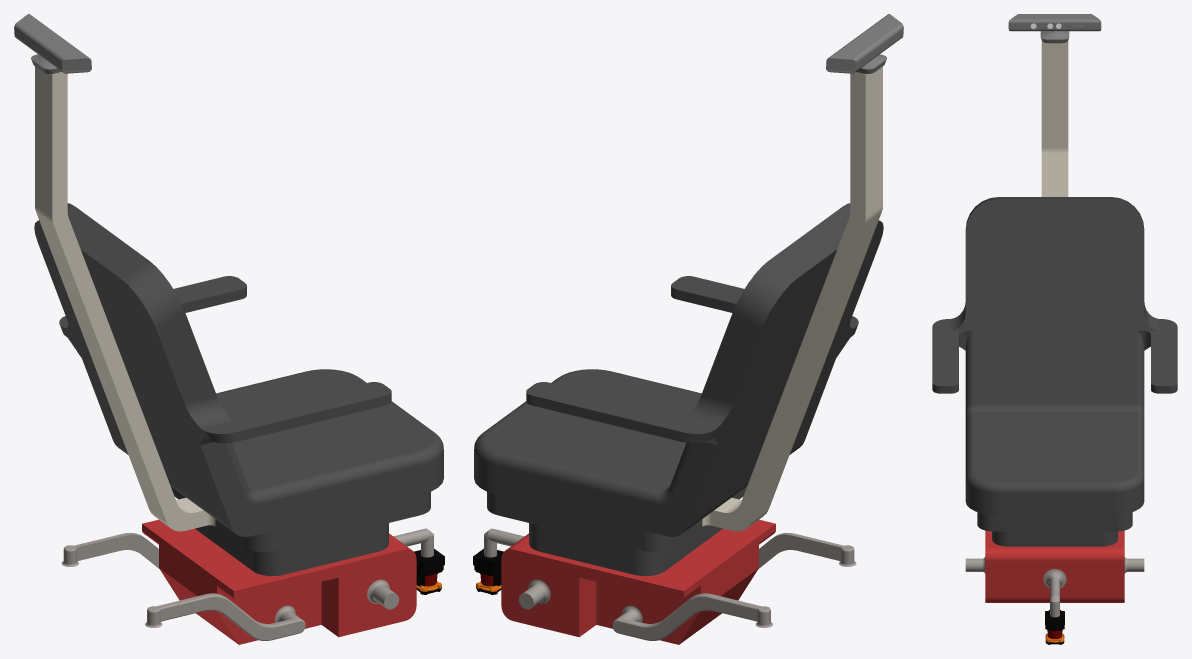
Rendered from wheelchair_base_seat.dae.
The picture shows the model from 3 angles, left to right: view 1: azimuth 30°, elevation 25°; view 2: azimuth 150°, elevation 25°; view 3: azimuth 270°, elevation 25°; orthographic projection. The views are drawn at different scales.
Visible parts, largest first — view 1: _3DGeom_198, _3DGeom_103, _3DGeom_199, _3DGeom_68, _3DGeom_941, _3DGeom_34, _3DGeom_105, _3DGeom_621; view 2: _3DGeom_198, _3DGeom_103, _3DGeom_199, _3DGeom_34, _3DGeom_941, _3DGeom_68, _3DGeom_105, _3DGeom_621; view 3: _3DGeom_198, _3DGeom_103, _3DGeom_199, _3DGeom_941, _3DGeom_105, _3DGeom_621.
Part boxes in pixels (x1,y1,x2,y2): _3DGeom_198: (34, 203, 443, 575); _3DGeom_103: (142, 519, 416, 644); _3DGeom_199: (35, 66, 215, 531); _3DGeom_68: (145, 593, 305, 640); _3DGeom_941: (14, 14, 91, 73); _3DGeom_34: (61, 533, 159, 568); _3DGeom_105: (275, 528, 433, 622); _3DGeom_621: (414, 548, 444, 594); _3DGeom_198: (474, 203, 883, 575); _3DGeom_103: (501, 519, 775, 644); _3DGeom_199: (702, 66, 882, 531); _3DGeom_34: (612, 593, 772, 640); _3DGeom_941: (826, 14, 903, 73); _3DGeom_68: (758, 533, 856, 568); _3DGeom_105: (484, 528, 642, 622); _3DGeom_621: (473, 548, 503, 594); _3DGeom_198: (932, 197, 1177, 546); _3DGeom_103: (985, 530, 1124, 602); _3DGeom_199: (1041, 41, 1068, 196); _3DGeom_941: (1008, 14, 1101, 32); _3DGeom_105: (965, 557, 1144, 617); _3DGeom_621: (1045, 610, 1064, 644).
Bounding box in the file's own units: 1.06 × 0.74 × 1.62.
